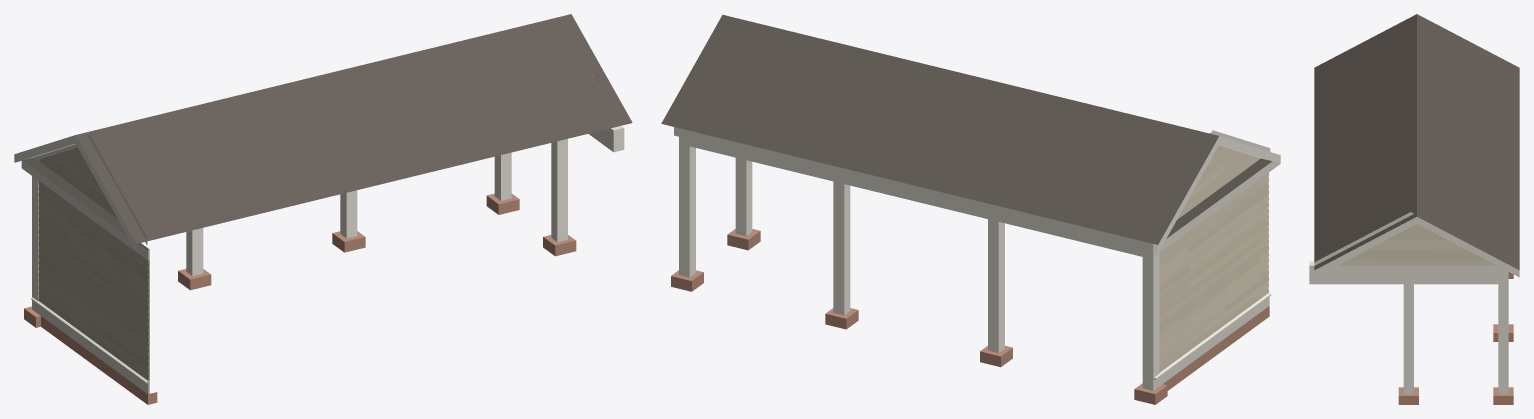
Rendered from shed_1834_1900_prairie__as_standing_1904.glb.
3 renders of one model, left to right at view 1: azimuth 30°, elevation 25°; view 2: azimuth 150°, elevation 25°; view 3: azimuth 270°, elevation 25°, orthographic. The views are drawn at different scales.
Parts seen in each view (by area): view 1: shed_1834_1900_prairie__as_standing_1904; view 2: shed_1834_1900_prairie__as_standing_1904; view 3: shed_1834_1900_prairie__as_standing_1904.
Boxes of the visible parts, box(x1,y1,x2,y2) form: shed_1834_1900_prairie__as_standing_1904: box(14, 14, 632, 404); shed_1834_1900_prairie__as_standing_1904: box(661, 14, 1280, 404); shed_1834_1900_prairie__as_standing_1904: box(1309, 14, 1519, 404).
Size of the model in its own units: 9.7 by 4.27 by 4.25.
